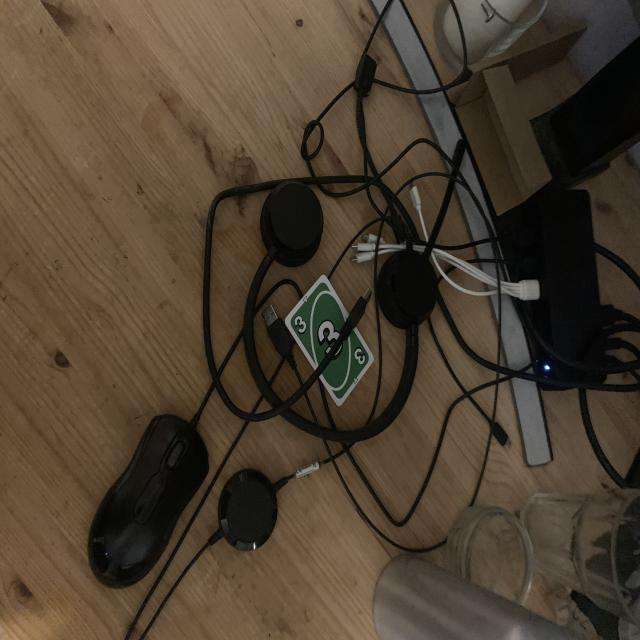lgreen-3: (292, 310, 310, 336)
